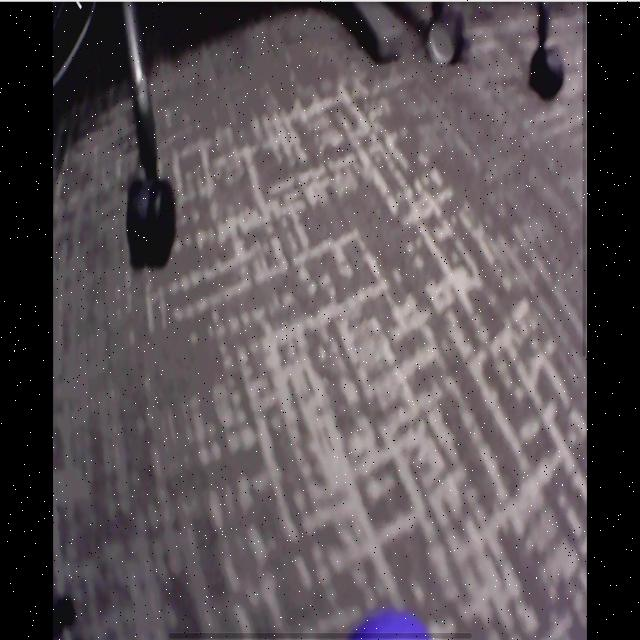ball: (354, 605, 429, 640)
